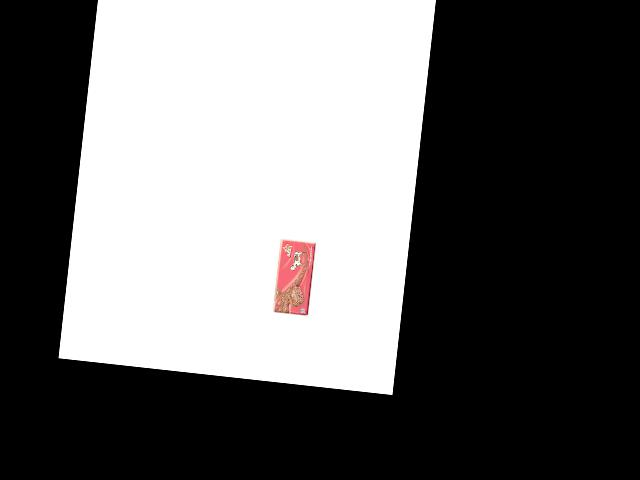chocolate: (265, 244, 309, 317)
